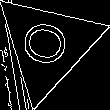O_E: (19, 18, 77, 72)
